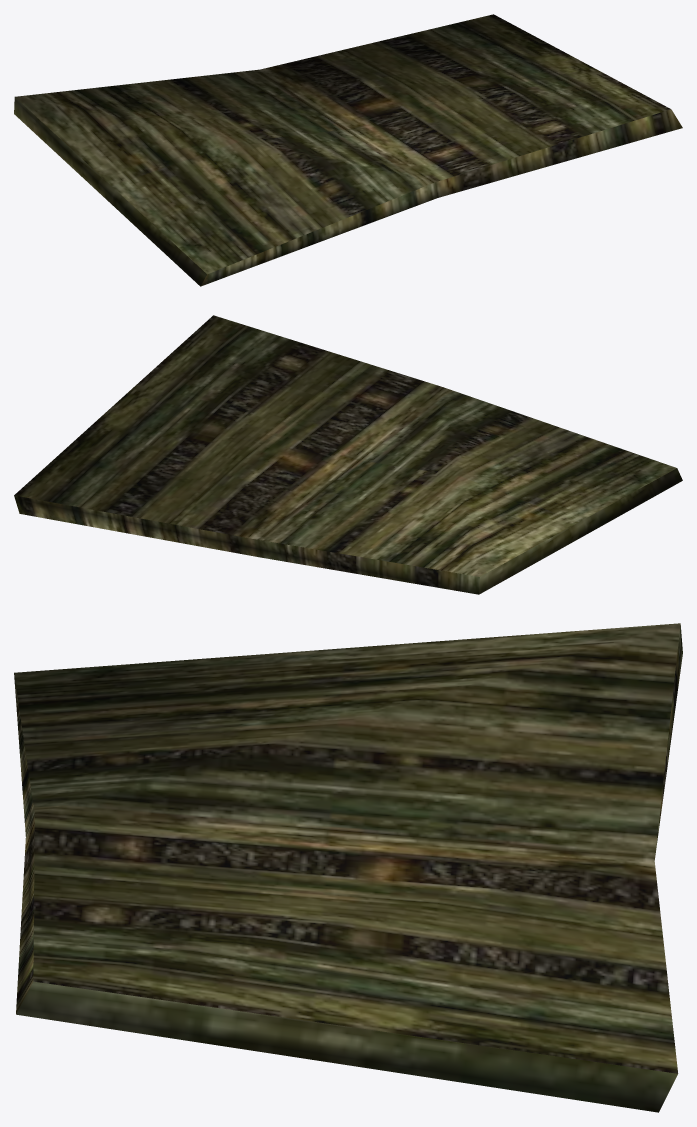
The model's file is PC_LOB_BRIDGE2.glb.
3 views of the same model, one above another, from view 1: azimuth 30°, elevation 25°; view 2: azimuth 150°, elevation 25°; view 3: azimuth 270°, elevation 25° (orthographic). The views are drawn at different scales.
Parts seen in each view (by area): view 1: Mesh; view 2: Mesh; view 3: Mesh.
Part boxes in pixels (x1,y1,x2,y2): Mesh: (14,14,682,286); Mesh: (14,315,682,594); Mesh: (14,623,682,1112).
Bounding box in the file's own units: 3.84 × 0.5342 × 2.7.
1 material, 1 textured.
